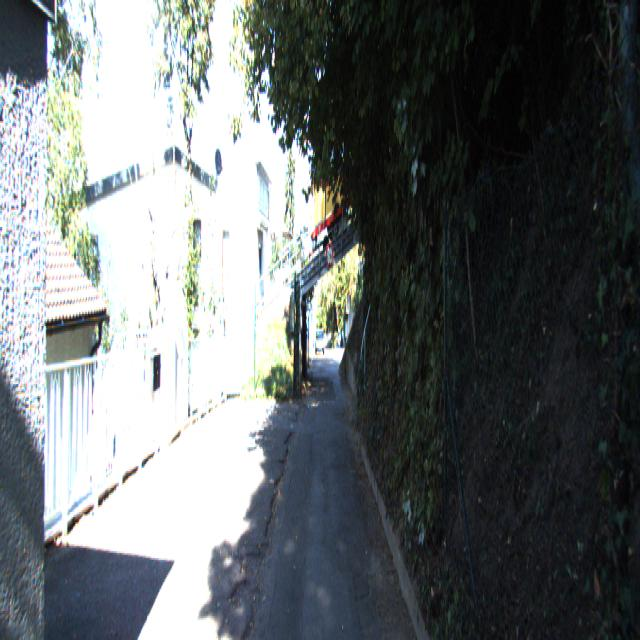Car: (315, 328, 324, 356)
